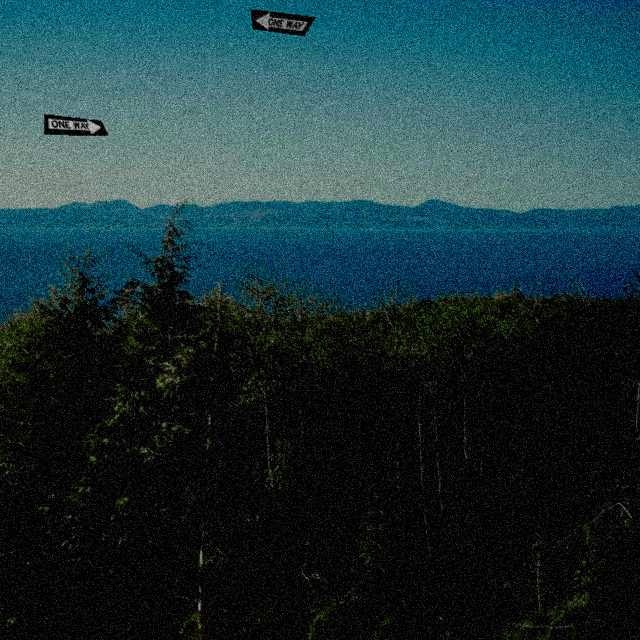ONE_WAY_ left: (250, 10, 315, 37)
ONE_WAY_ right: (43, 115, 108, 137)
